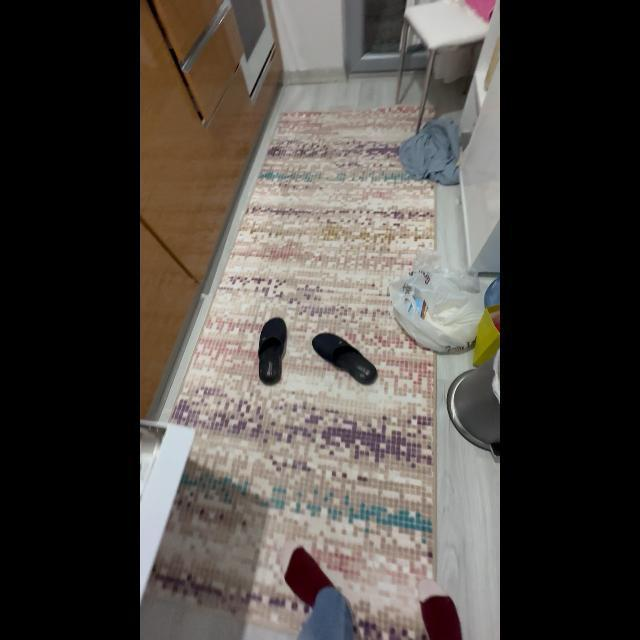slipper: (308, 326, 384, 390), (249, 314, 299, 388)
